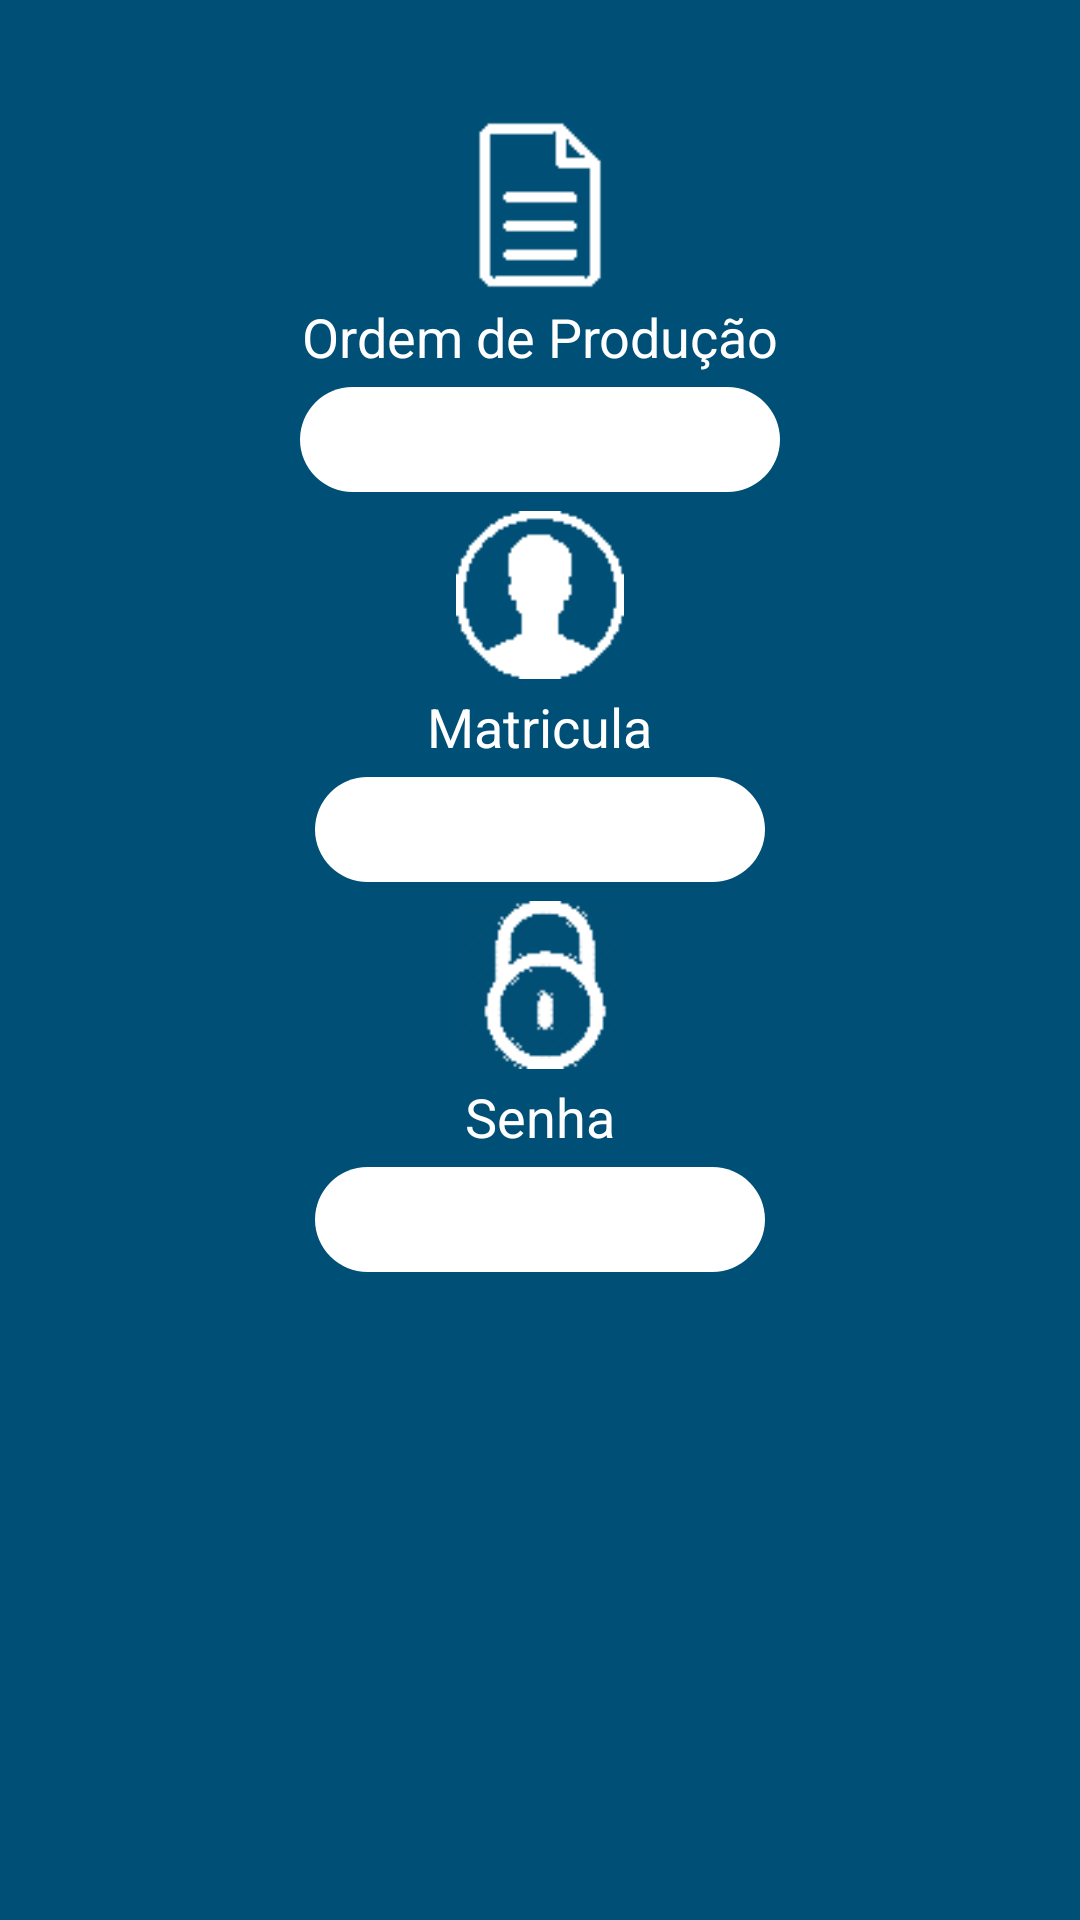

Named icons in this screenshot (1080x1920) and their bounding boxes, [x1, y1, x2, y2]:
service order: [479, 123, 601, 287]
user: [456, 511, 624, 679]
